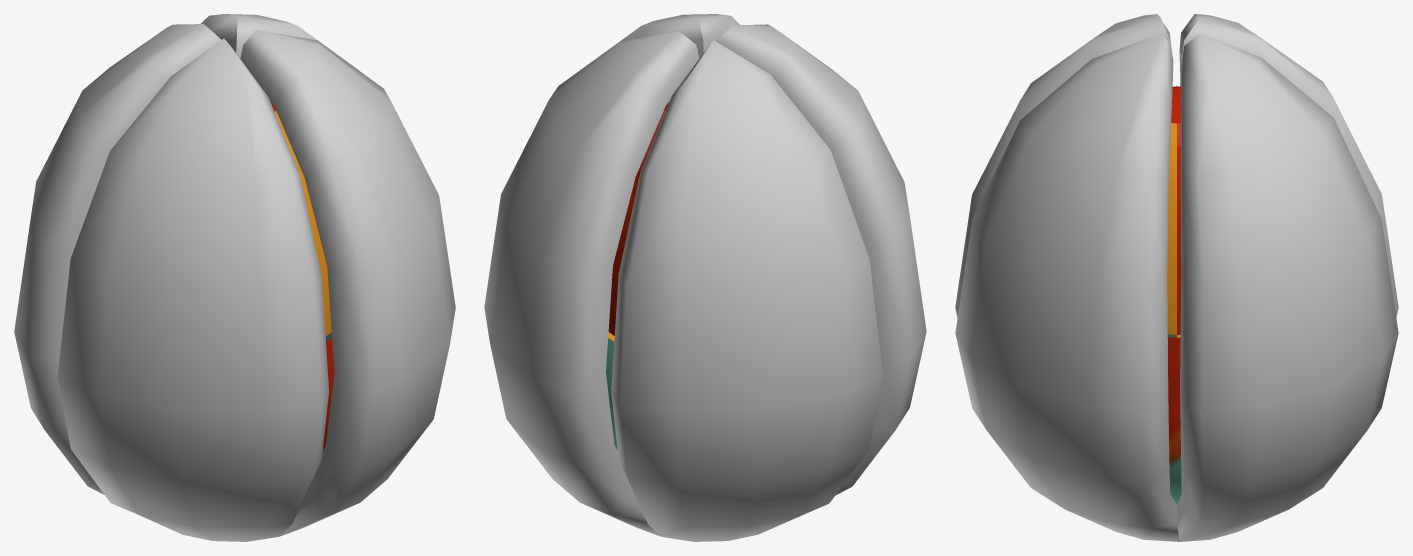
Rendered from Bud_Blendshapes.fbx.
3 views of the same model, side by side, from view 1: azimuth 30°, elevation 25°; view 2: azimuth 150°, elevation 25°; view 3: azimuth 270°, elevation 25° (orthographic).
Visible parts, largest first — view 1: bulb, seed, seedcase1; view 2: bulb, seed, seedcase1; view 3: bulb, seed, seedcase1.
Part boxes in pixels (box(x1,y1,x2,y2)): bulb: box(14, 14, 455, 541); seed: box(270, 102, 331, 335); seedcase1: box(322, 332, 334, 450); bulb: box(484, 14, 926, 541); seed: box(608, 101, 669, 335); seedcase1: box(606, 332, 617, 450); bulb: box(955, 14, 1398, 541); seed: box(1167, 86, 1181, 334); seedcase1: box(1167, 334, 1181, 504).
Bounding box in the file's own units: 2.39 × 2.95 × 2.39.
